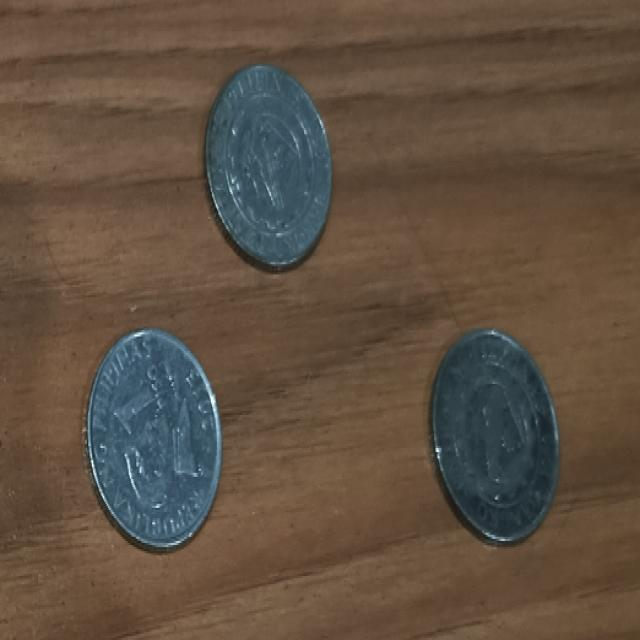1_peso: (87, 328, 221, 549), (432, 330, 558, 541), (205, 64, 331, 266)
